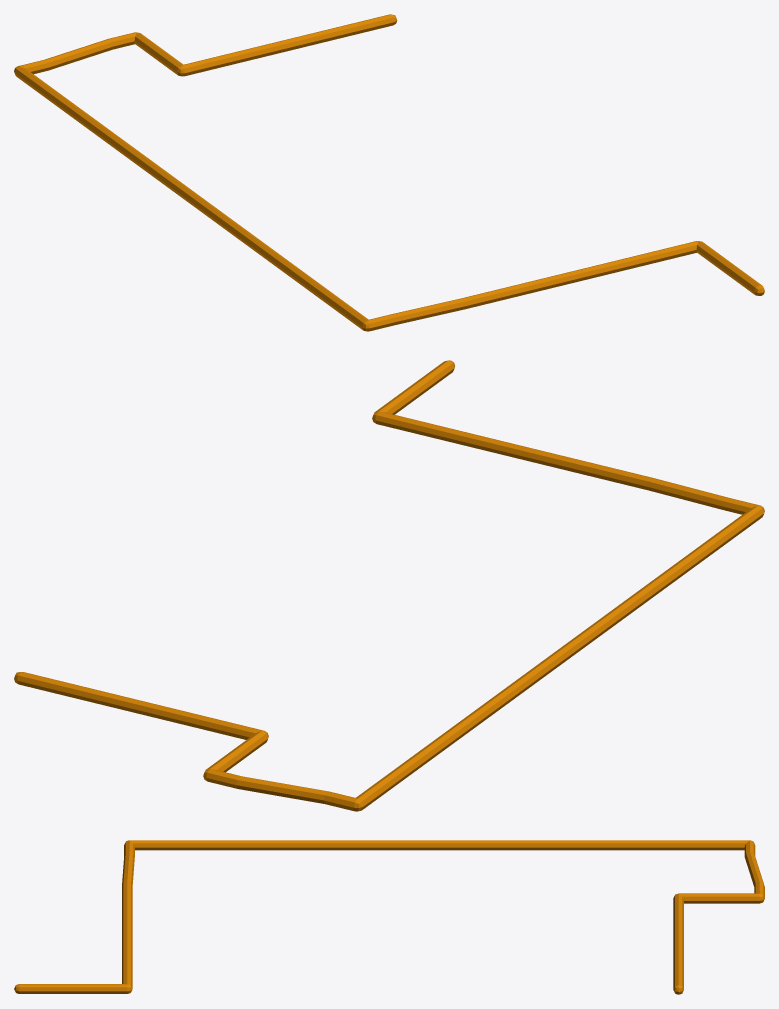
3 renders of one model, top to bottom at view 1: azimuth 30°, elevation 25°; view 2: azimuth 150°, elevation 25°; view 3: azimuth 270°, elevation 25°, orthographic. The views are drawn at different scales.
Size of the model in its own units: 654 by 20 by 1392.
